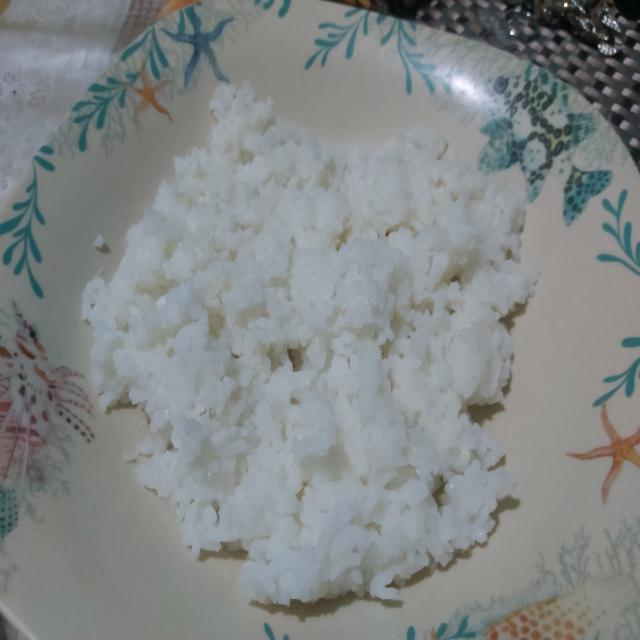Chicken -Chicken Inasal-: (108, 85, 524, 583)
